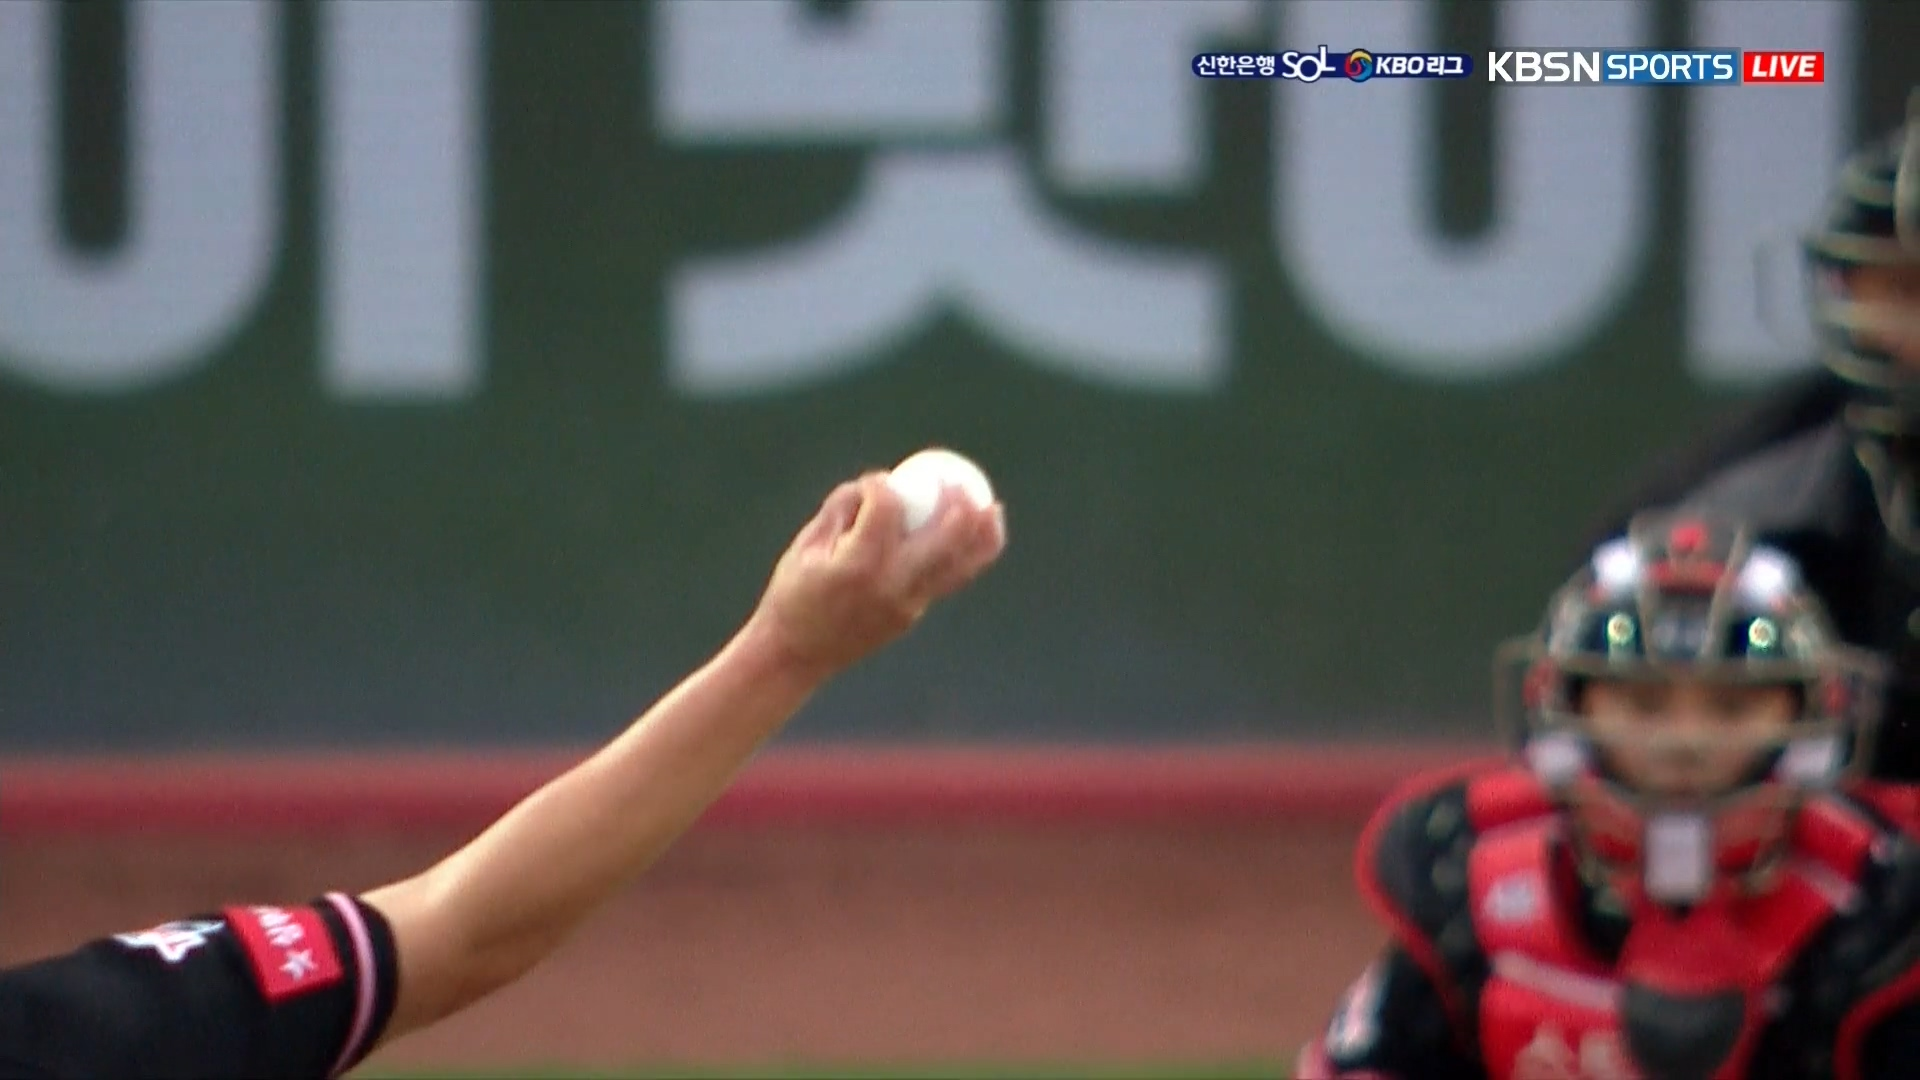zoomin_hand: (434, 435, 1023, 988)
